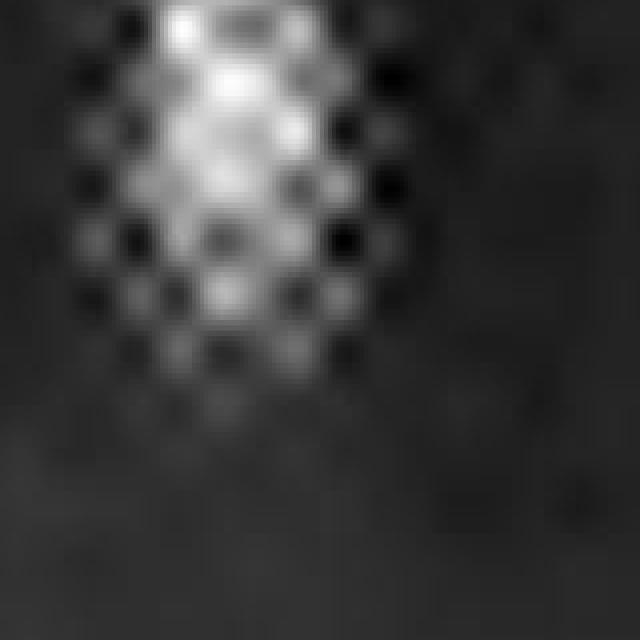person: (73, 1, 357, 417)
